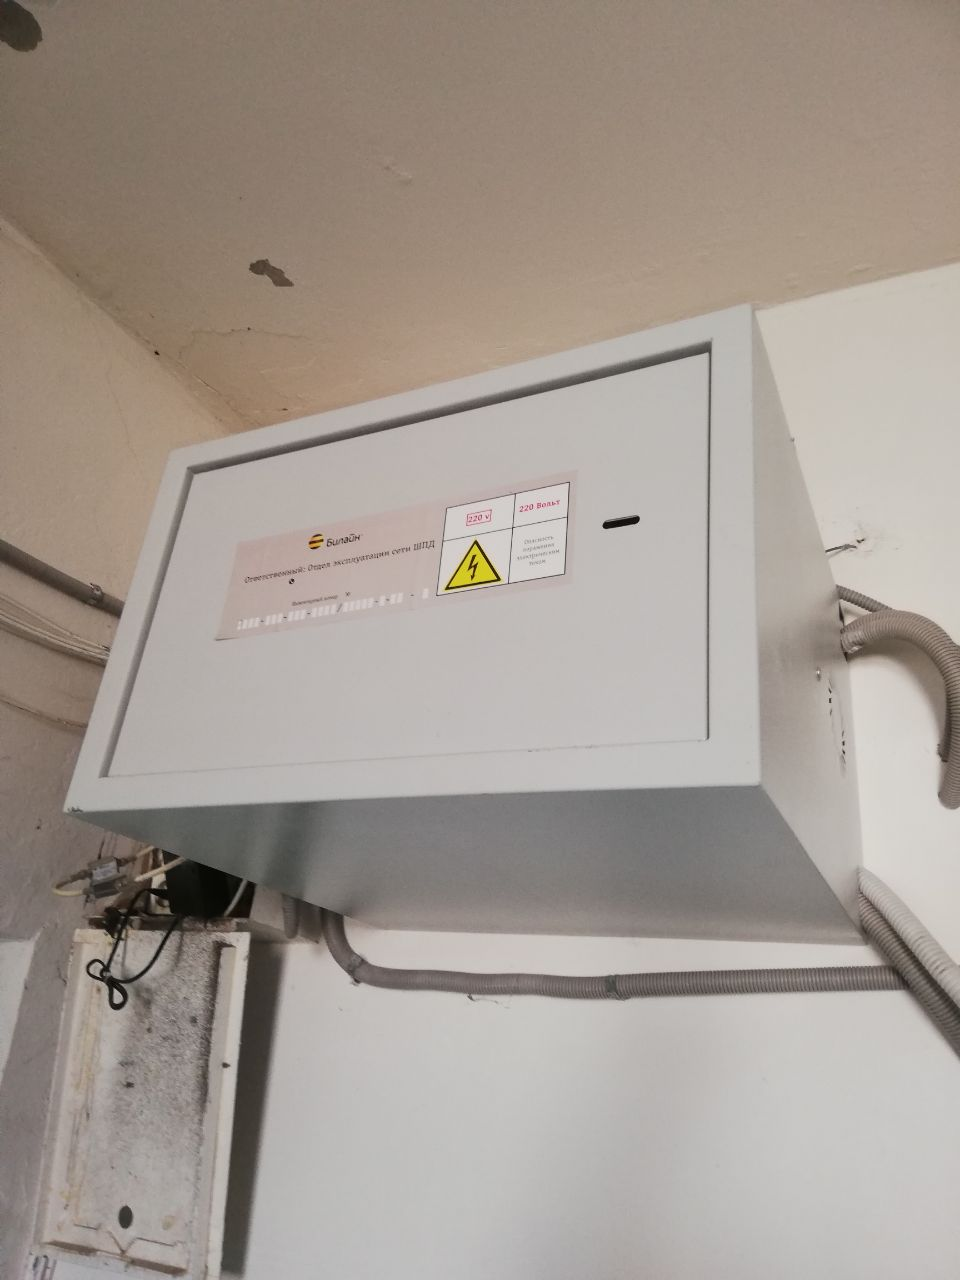shta-7m: (48, 284, 872, 944)
